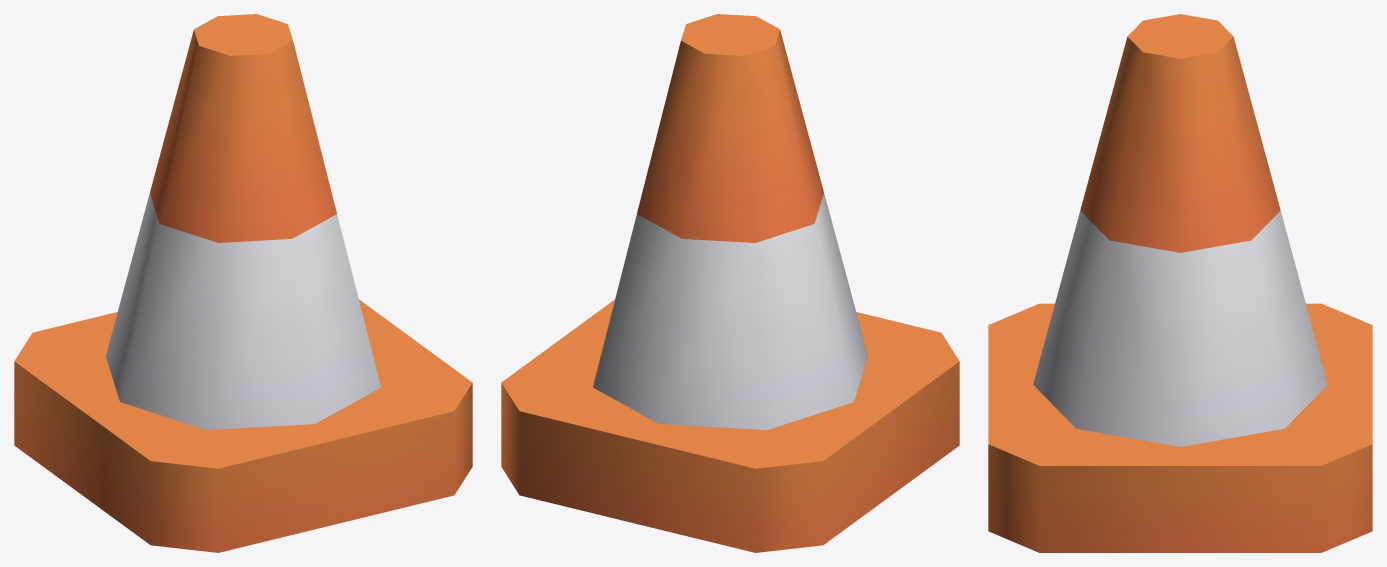
The picture shows the model from 3 angles, left to right: view 1: azimuth 30°, elevation 25°; view 2: azimuth 150°, elevation 25°; view 3: azimuth 270°, elevation 25°; orthographic projection. The views are drawn at different scales.
Parts seen in each view (by area): view 1: construction-cone; view 2: construction-cone; view 3: construction-cone.
Part boxes in pixels (x1,y1,x2,y2): construction-cone: (14, 14, 472, 552); construction-cone: (501, 14, 959, 552); construction-cone: (988, 14, 1372, 552).
Size of the model in its own units: 0.56 by 0.7 by 0.56.
Materials: 1 (1 with a texture image).
